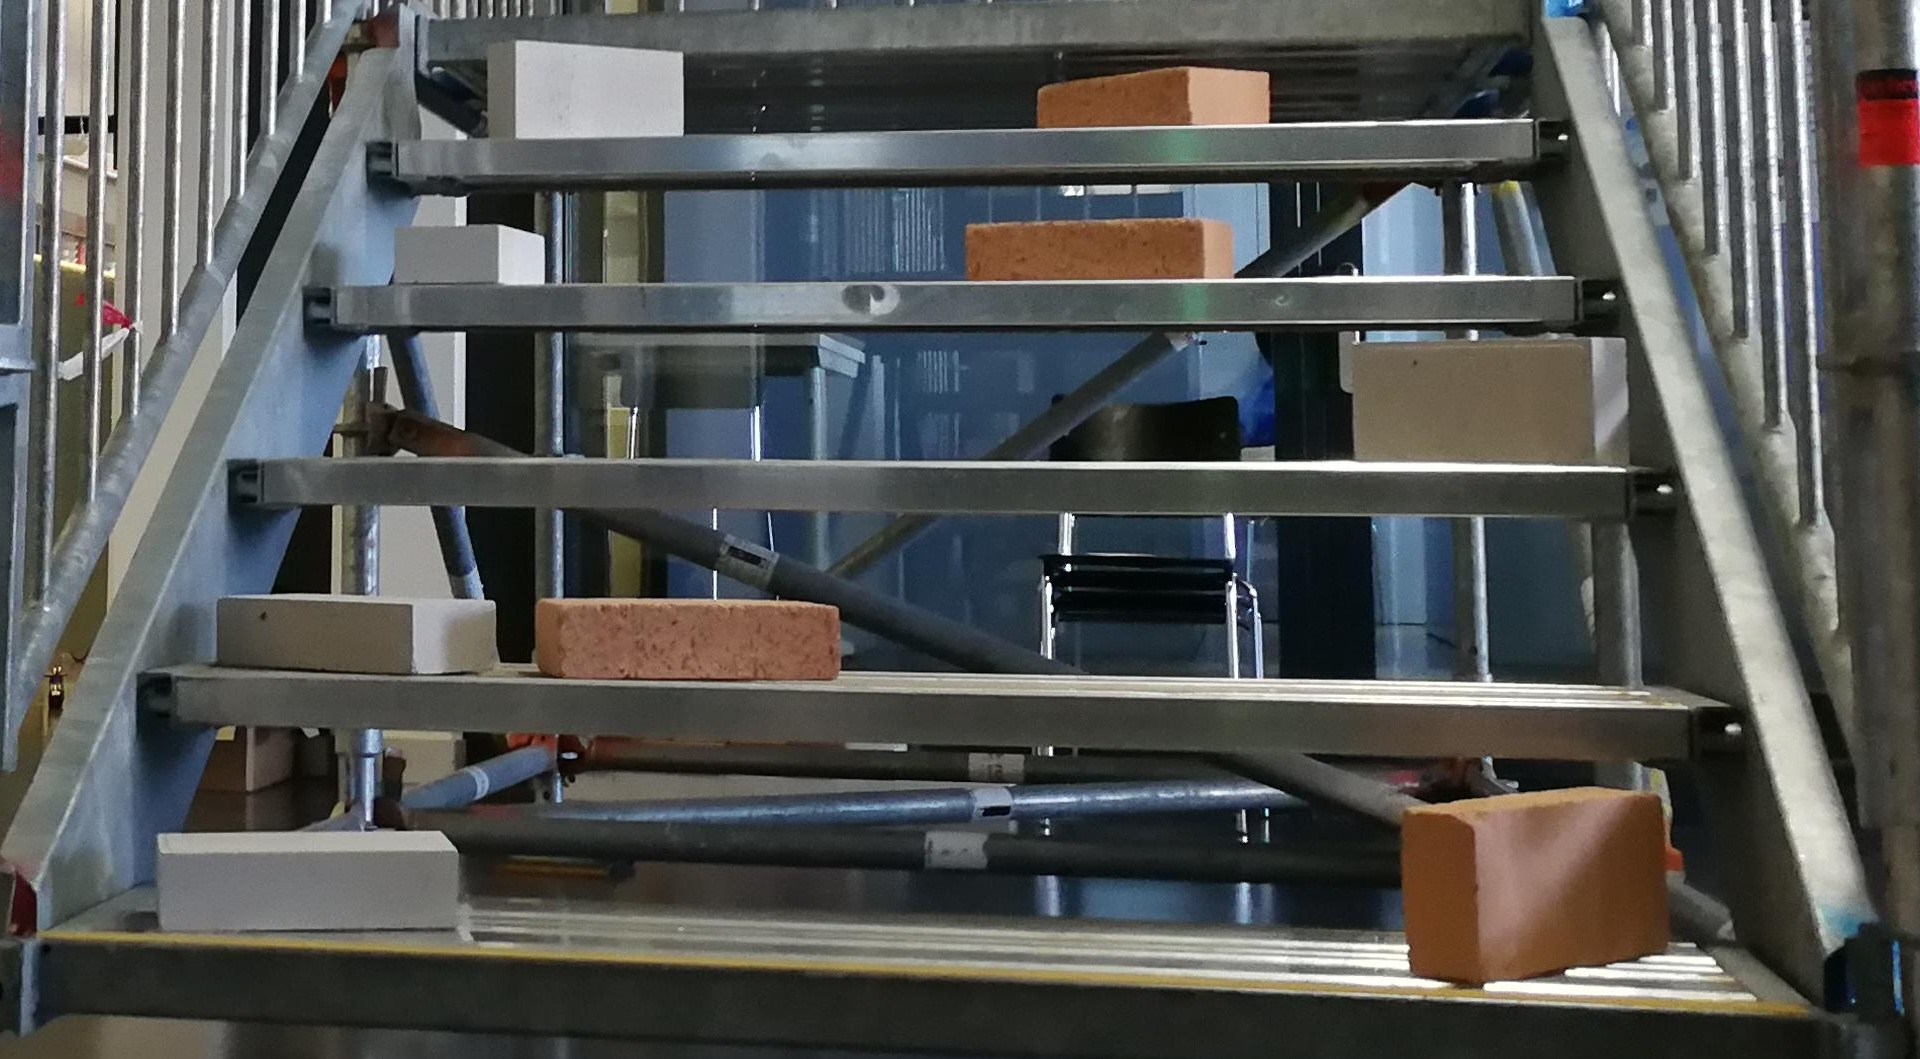brick: (1404, 785, 1666, 981), (1357, 338, 1629, 466), (159, 833, 455, 932), (536, 597, 842, 679), (215, 592, 491, 674), (486, 40, 683, 137), (966, 219, 1233, 280), (1036, 67, 1267, 124), (396, 220, 544, 286)
edge: (48, 938, 1844, 1052), (146, 663, 1738, 756), (232, 458, 1683, 513), (366, 120, 1576, 171), (310, 276, 1619, 323), (422, 3, 1535, 56)
